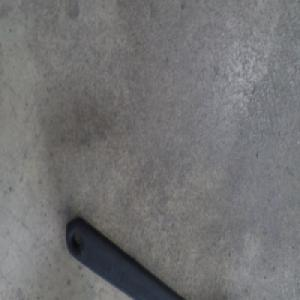AdjustableWrench: (63, 215, 194, 299)
